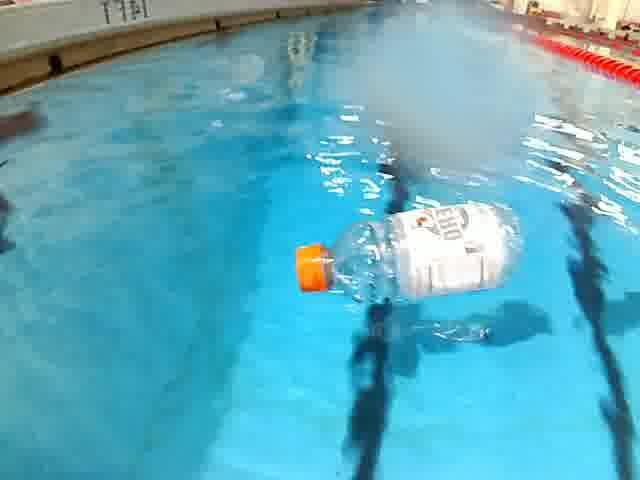Can: (285, 194, 529, 313)
